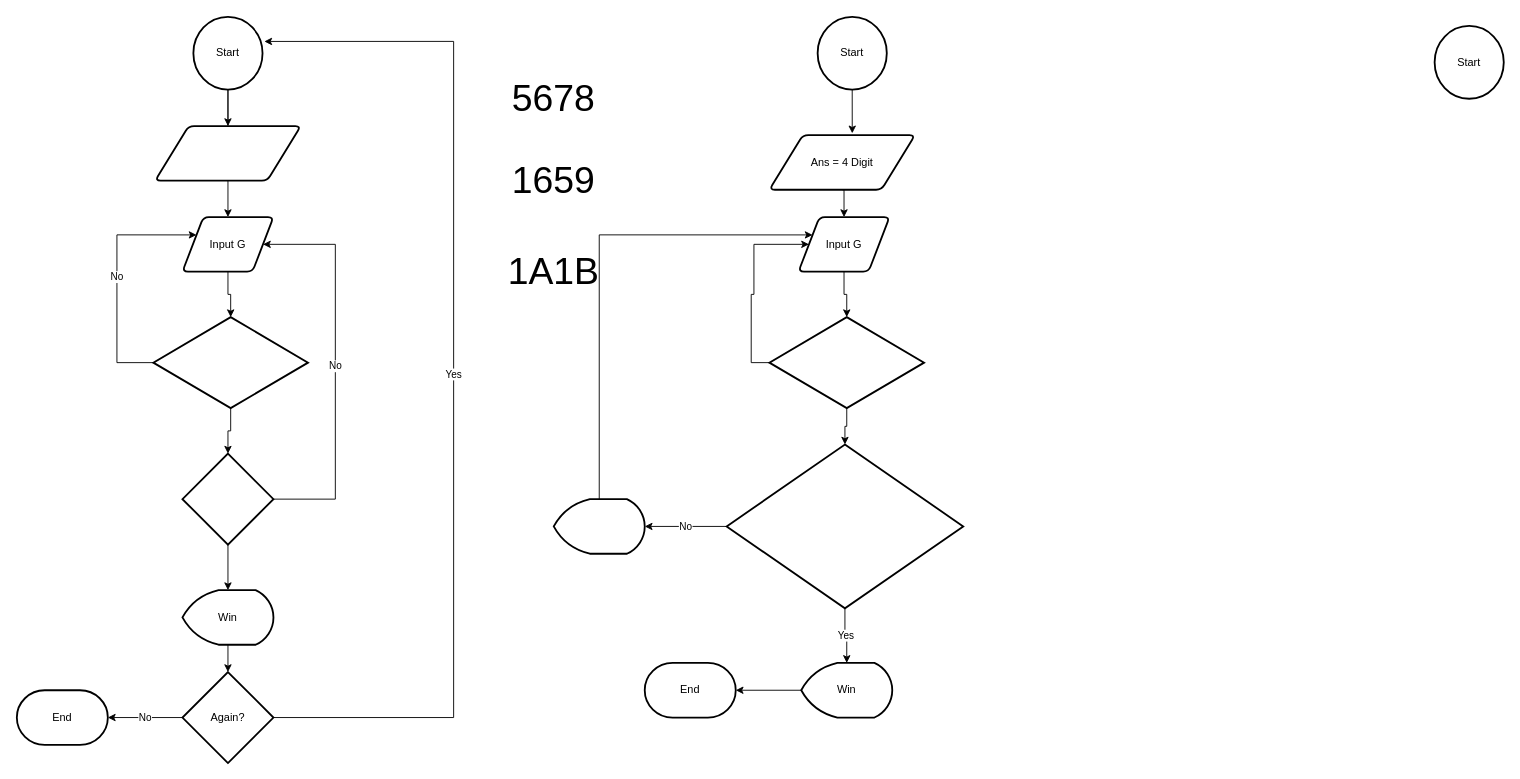
Image size: 1520x779. Some labels were removed from this diagram. Each missing label, with the centre of its shape:
"0<= G && G<=9 ?" belongs at point 230,362.
"?A?B" belongs at point 598,526.
"Ans == G?" belongs at point 227,498.
"Ans=rand(0,9)" belongs at point 227,153.
"Ans[I] == G[i] ?A Ans[j] == G[k] j !=k =? ?B 4A?" belongs at point 844,526.
"G ==Digits ?" belongs at point 846,362.
